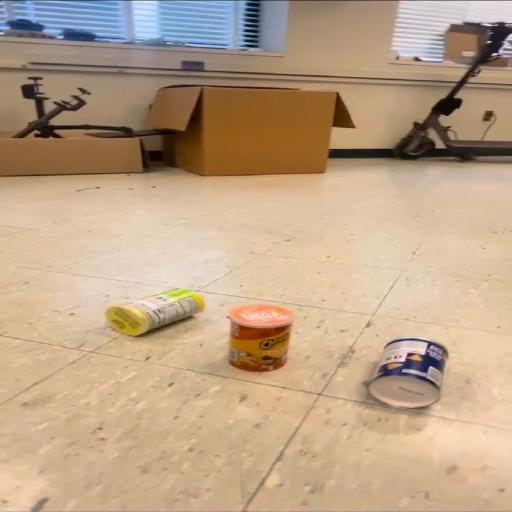pringle can: (370, 338, 447, 407), (106, 288, 204, 335), (229, 304, 293, 371)
